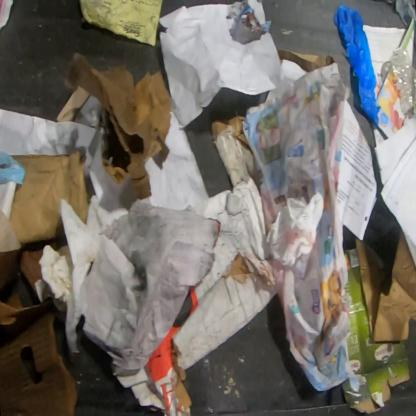cardboard: (171, 248, 279, 410), (0, 205, 80, 415), (340, 246, 411, 414), (189, 173, 267, 315), (105, 326, 193, 416), (9, 149, 89, 245), (354, 228, 415, 343), (211, 114, 259, 190), (277, 48, 339, 73), (55, 85, 92, 123)
rigid_plastic: (390, 45, 415, 119)
soft_plastic: (333, 4, 382, 127), (0, 151, 25, 184), (394, 0, 415, 31)
